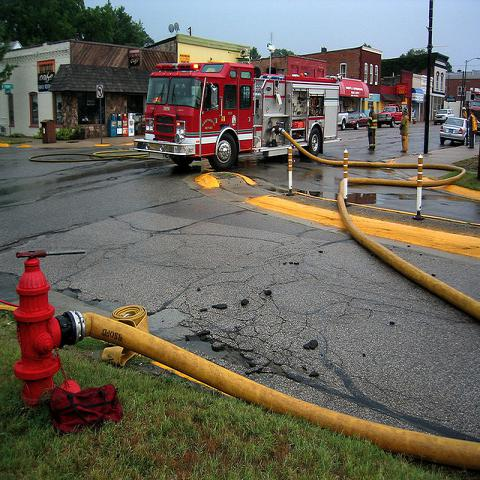car: (440, 118, 468, 145), (376, 105, 402, 129), (346, 114, 372, 130), (434, 109, 454, 124)
truck: (135, 60, 340, 170)
